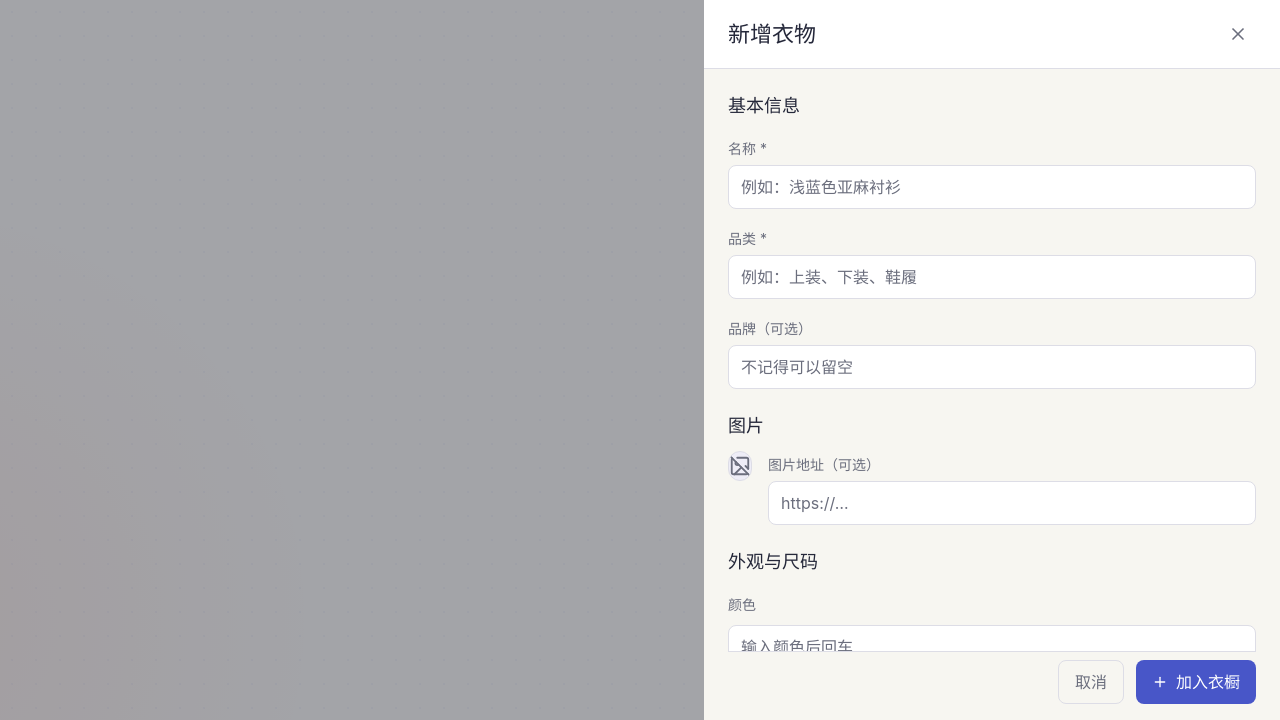
Scenario: WardrobeFormDrawer › 可以输入并提交自定义颜色标签
This screenshot has width=1280, height=720.
Step 1. Type "雾霾蓝" into the field with placeholder "输入颜色后回车" → (992, 647), box [728,625,1256,669]
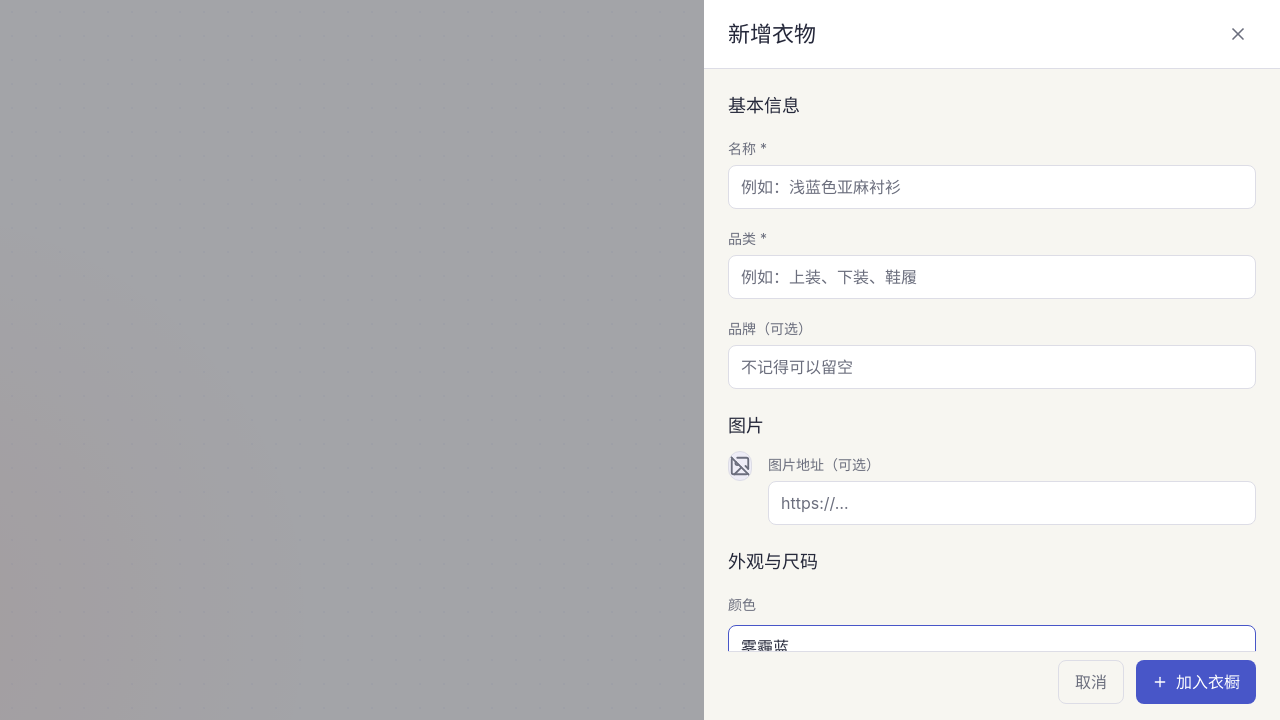
Step 2. Press Enter
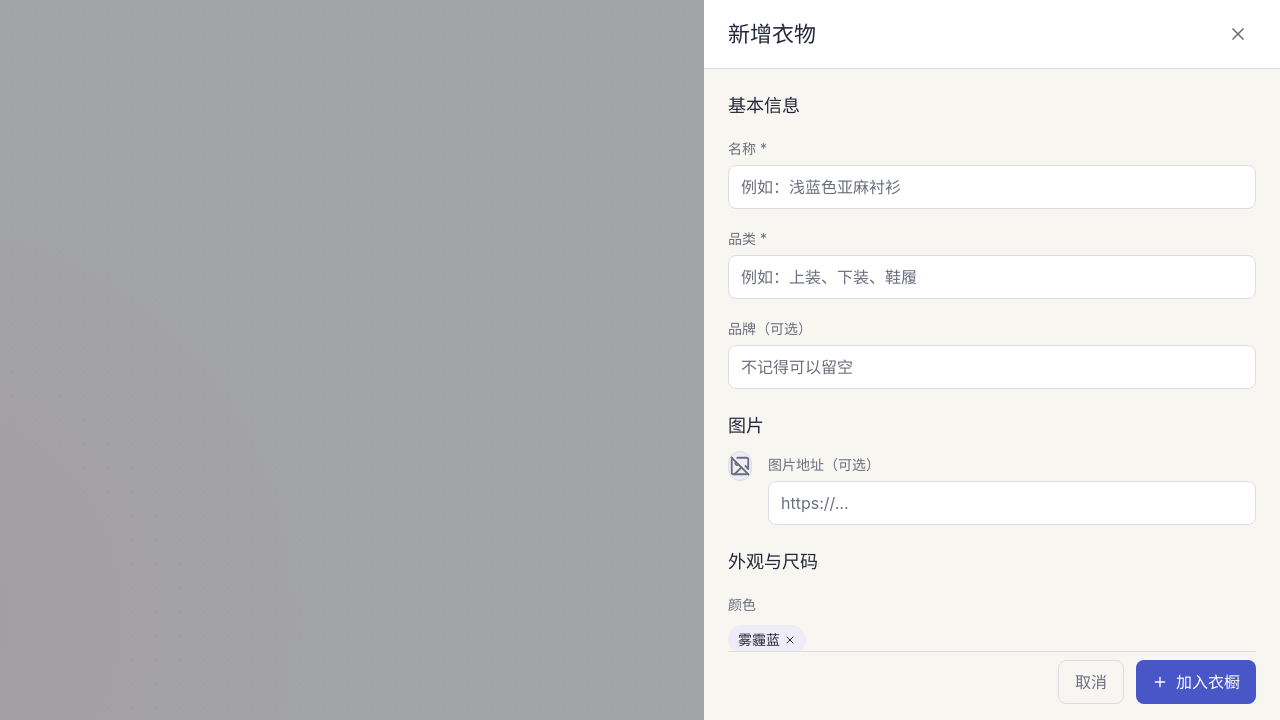
Expected: the button with aria-label "移除 雾霾蓝" is shown, [728,625,806,654]
